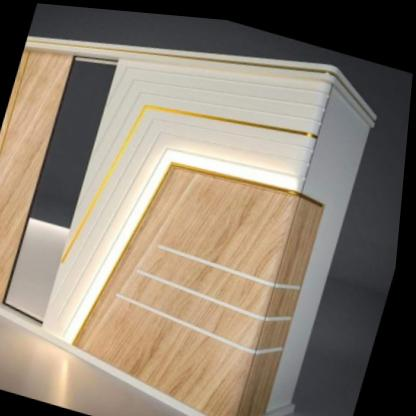Closet: (0, 35, 377, 416)
